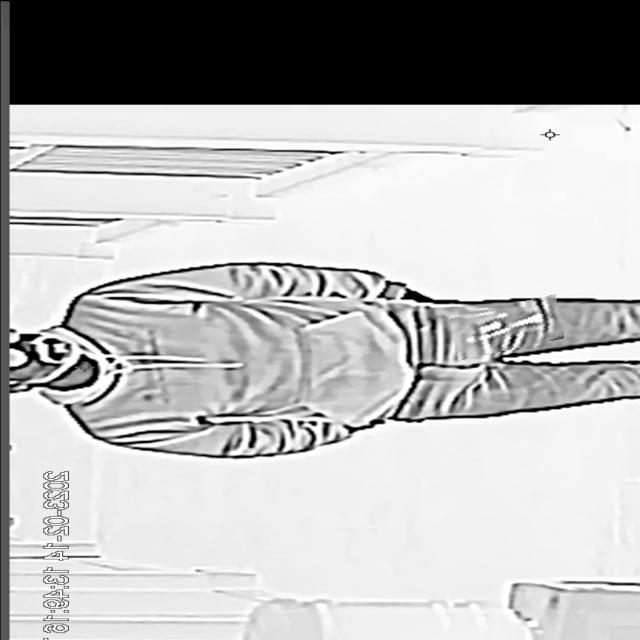Weapon: (450, 298, 562, 354)
